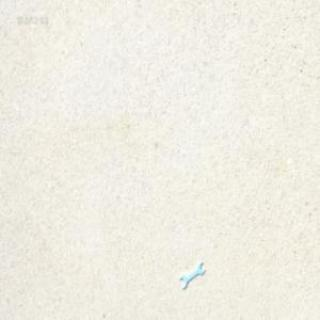Wrenchtrack_idkeyframe: (179, 256, 205, 286)
